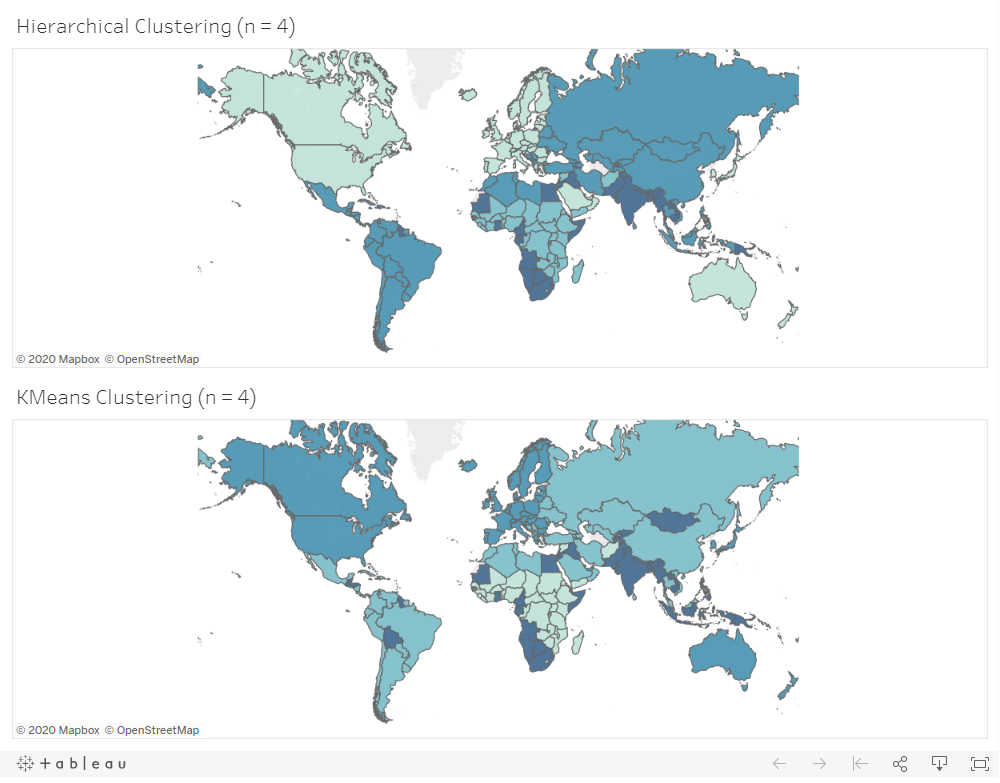

The dashboard page shown, as its layout file describes it:
{"tool":"tableau","page":{"name":"KMeans vs. Hierarchical Clusterings","canvas":[1000,800],"ordinal":0},"visuals":[{"type":"worksheet","box":[0,0,1000,800]},{"type":"worksheet","param":"vert","box":[8,8,984,784]},{"type":"worksheet","box":[8,8,984,42]},{"type":"worksheet","param":"horz","box":[8,50,984,742]},{"type":"worksheet","box":[8,50,824,742]},{"type":"worksheet","title":"KMeans Clustering","mark":"Automatic","box":[8,50,824,371]},{"type":"worksheet","param":"vert","box":[832,50,160,742]},{"type":"worksheet","title":"KMeans Clustering","mark":"Automatic","param":"[federated.0r5lr1c0ns43cw17oz8xh1ahtajh].[sum:kmeans_clusters:qk]","box":[832,50,160,65]},{"type":"worksheet","title":"Hierarchical Clustering","mark":"Automatic","param":"[federated.0r5lr1c0ns43cw17oz8xh1ahtajh].[sum:hr_clusters:qk]","box":[832,115,160,65]},{"type":"worksheet","title":"Hierarchical Clustering","mark":"Automatic","box":[8,421,824,371]}]}

Visuals, with their boxes on the page's 1000x800 design canvas (x1, y1, x2, y2). These are canvas units, not pixel positions in the 1000x783 screenshot, which may show the page scaled, cropped or inside an application window:
worksheet: Rect(0, 0, 1000, 800)
worksheet: Rect(8, 8, 992, 792)
worksheet: Rect(8, 8, 992, 50)
worksheet: Rect(8, 50, 992, 792)
worksheet: Rect(8, 50, 832, 792)
"KMeans Clustering" worksheet: Rect(8, 50, 832, 421)
worksheet: Rect(832, 50, 992, 792)
"KMeans Clustering" worksheet: Rect(832, 50, 992, 115)
"Hierarchical Clustering" worksheet: Rect(832, 115, 992, 180)
"Hierarchical Clustering" worksheet: Rect(8, 421, 832, 792)
